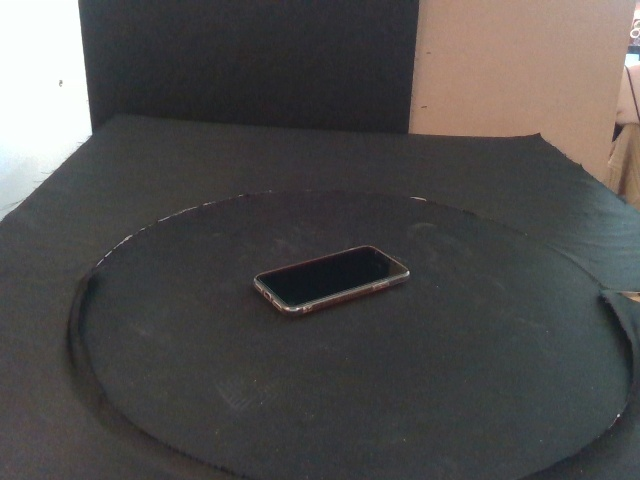phone: (252, 244, 409, 317)
